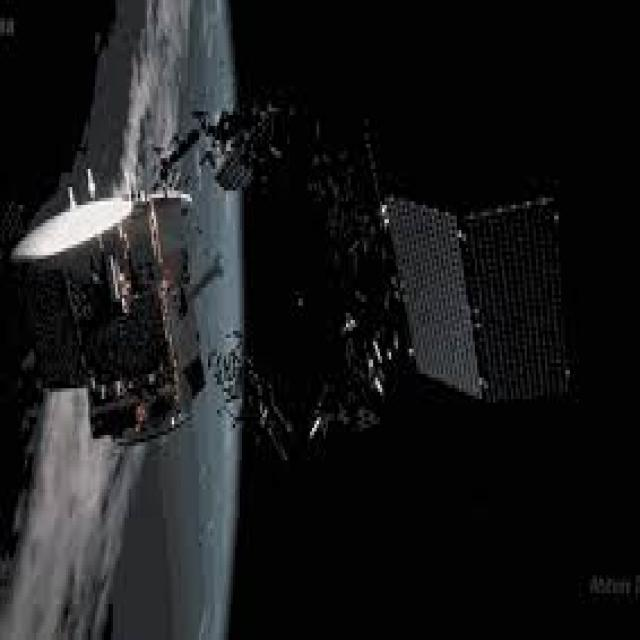large_debris: (10, 162, 319, 442), (366, 156, 600, 442), (154, 88, 294, 187), (325, 160, 366, 442)
